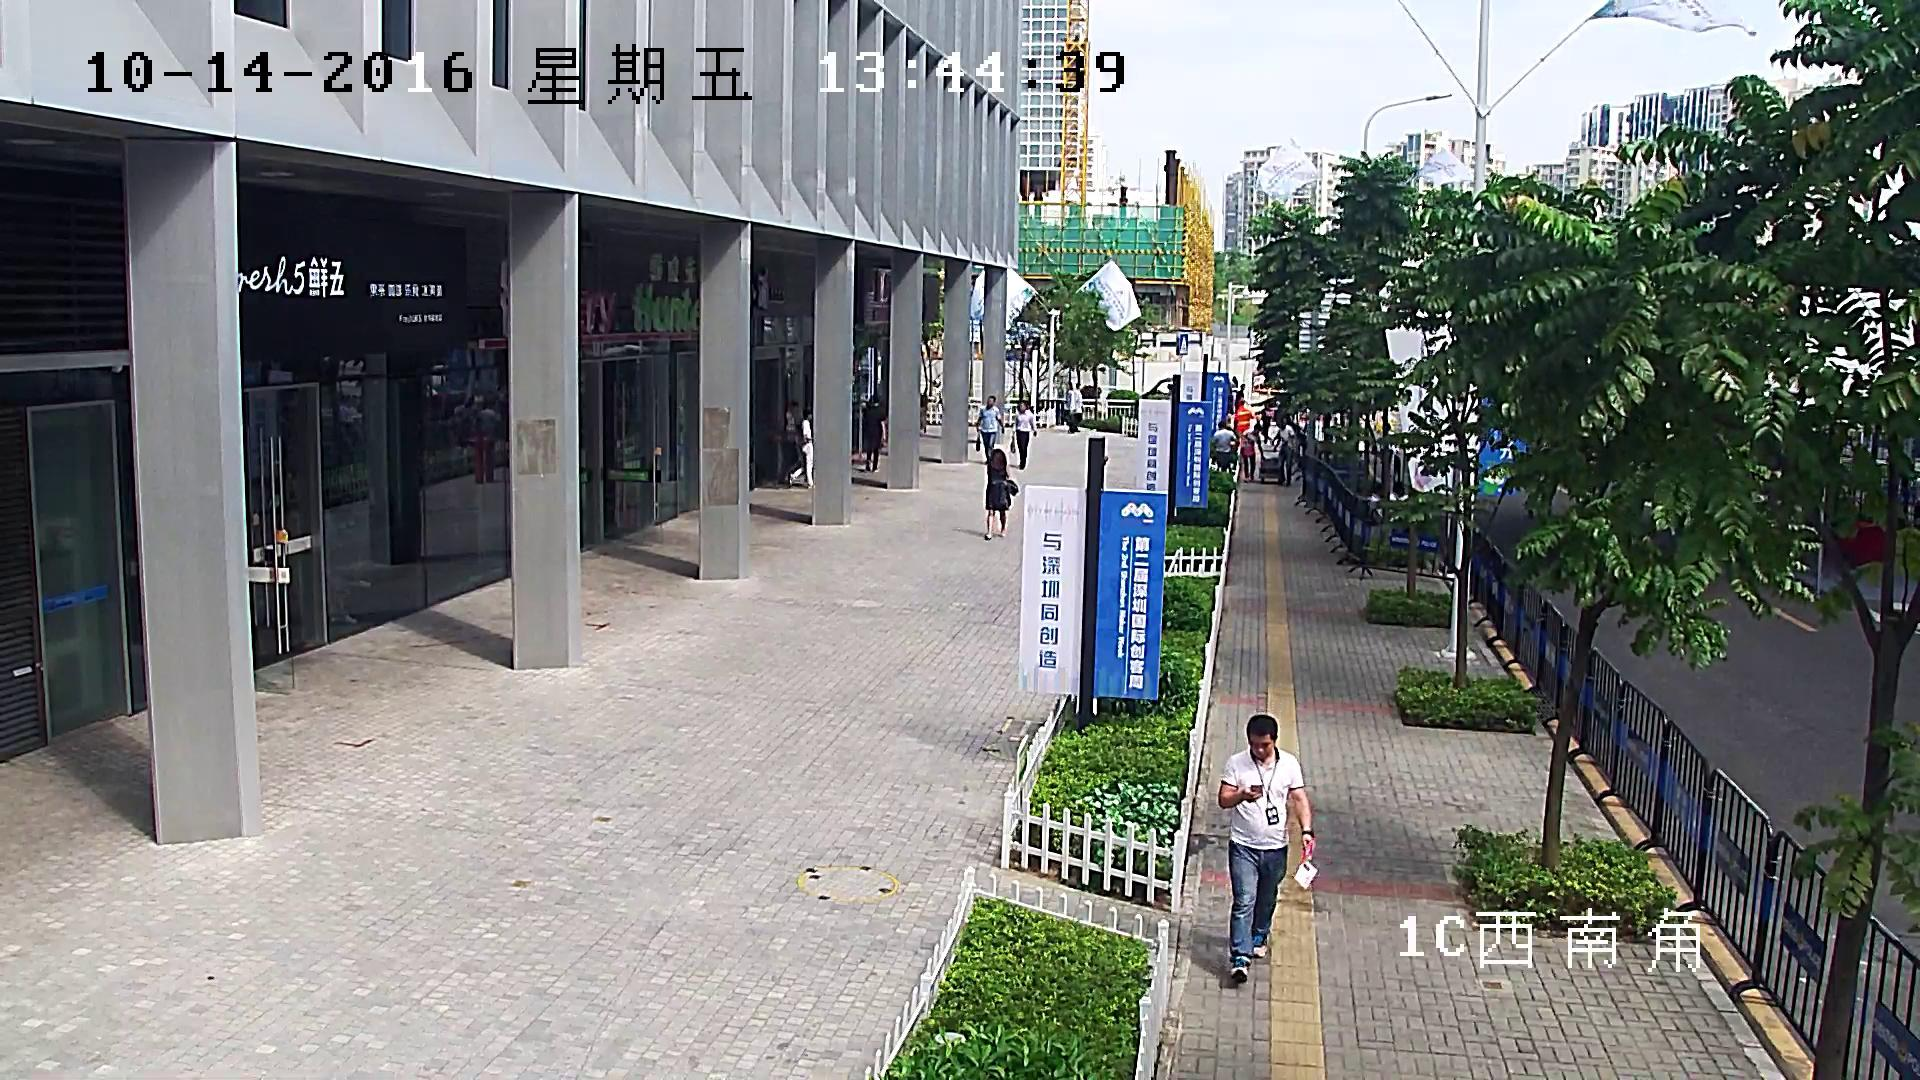person: (1219, 715, 1318, 984), (984, 449, 1018, 539), (1243, 422, 1284, 486), (1258, 418, 1296, 486), (473, 392, 499, 484), (786, 410, 813, 488), (975, 396, 1003, 462), (863, 393, 886, 472), (1010, 400, 1037, 468), (1273, 418, 1296, 486), (1242, 423, 1263, 482), (1213, 421, 1236, 472), (785, 401, 800, 462), (1068, 383, 1083, 432), (1233, 401, 1253, 437), (1255, 402, 1271, 443), (1235, 385, 1245, 405)
